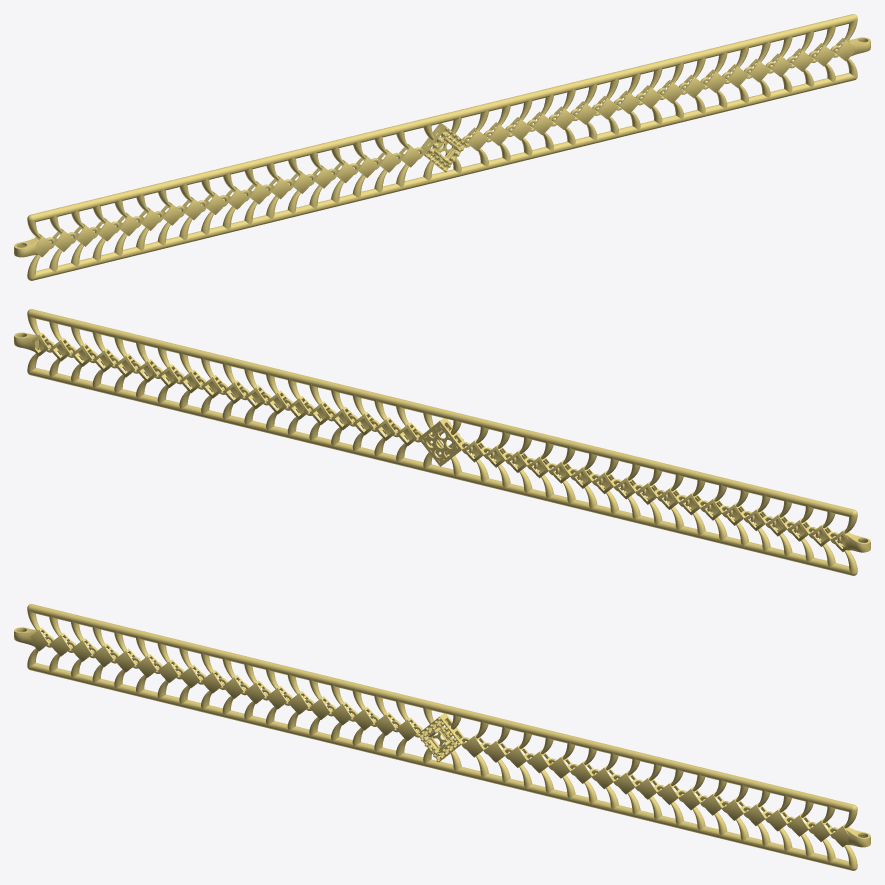
File: yzn5-97_6.glb
3 renders of one model, top to bottom at view 1: azimuth 30°, elevation 25°; view 2: azimuth 150°, elevation 25°; view 3: azimuth 330°, elevation 25°, orthographic.
Visible parts, largest first — view 1: Renderer Node; view 2: Renderer Node; view 3: Renderer Node.
Boxes of the visible parts, x1=… form: Renderer Node: x1=14, y1=14, x2=870, y2=280; Renderer Node: x1=14, y1=309, x2=870, y2=575; Renderer Node: x1=14, y1=604, x2=870, y2=870.
Bounding box in the file's own units: 174 × 12.72 × 4.18.
